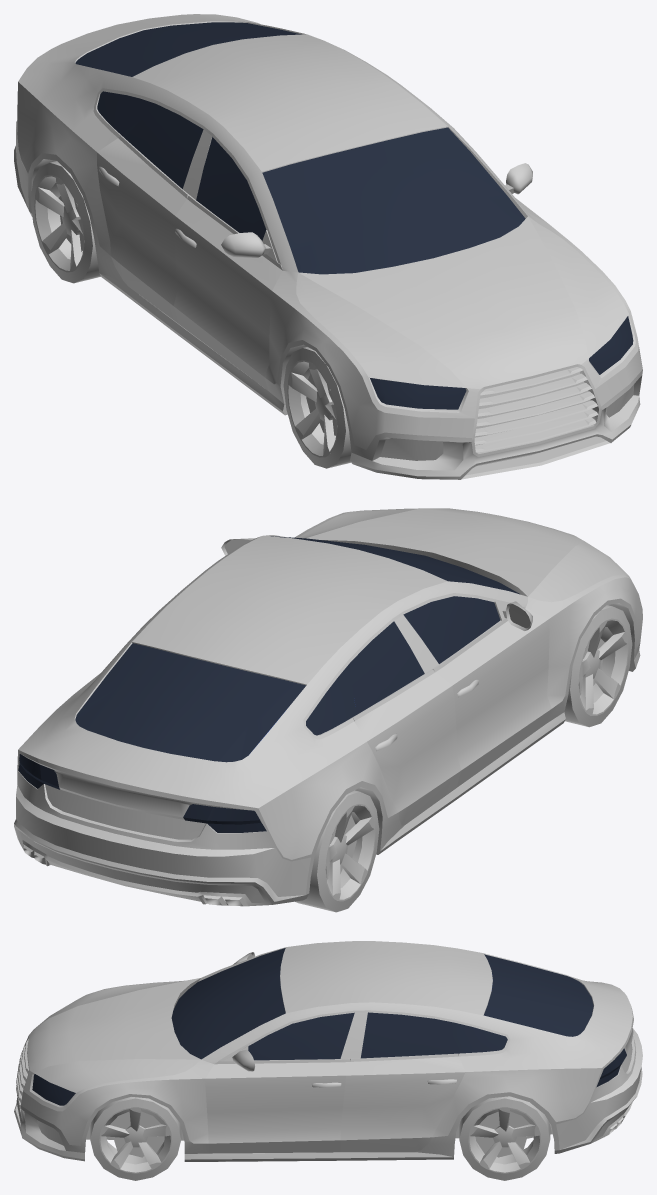
The model's file is RealisticCar02_HD_LOD3.FBX.
The picture shows the model from 3 angles, top to bottom: view 1: azimuth 30°, elevation 25°; view 2: azimuth 150°, elevation 25°; view 3: azimuth 270°, elevation 25°; orthographic projection. The views are drawn at different scales.
Parts seen in each view (by area): view 1: Car02_Body_LOD3, Car02_Glass_LOD3, Car02_Door_FrontRight_LOD3, Car02_Door_BackRight_LOD3, Car02_Wheel_BackRight_LOD3, Car02_Wheel_FrontRight_LOD3, Car02_Door_FrontLeft_LOD3; view 2: Car02_Body_LOD3, Car02_Glass_LOD3, Car02_Door_FrontRight_LOD3, Car02_Door_BackRight_LOD3, Car02_Wheel_BackRight_LOD3, Car02_Wheel_FrontRight_LOD3; view 3: Car02_Body_LOD3, Car02_Door_FrontLeft_LOD3, Car02_Glass_LOD3, Car02_Door_BackLeft_LOD3, Car02_Wheel_BackLeft_LOD3, Car02_Wheel_FrontLeft_LOD3, Car02_BrakeDisc_FrontLeft_LOD3, Car02_BrakeDisc_BackLeft_LOD3.
Part boxes in pixels (box(x1,y1,x2,y2)): Car02_Body_LOD3: box(14, 14, 642, 479); Car02_Glass_LOD3: box(75, 22, 633, 409); Car02_Door_FrontRight_LOD3: box(173, 137, 282, 390); Car02_Door_BackRight_LOD3: box(97, 103, 203, 323); Car02_Wheel_BackRight_LOD3: box(30, 161, 100, 283); Car02_Wheel_FrontRight_LOD3: box(283, 347, 351, 468); Car02_Door_FrontLeft_LOD3: box(495, 163, 546, 222); Car02_Body_LOD3: box(14, 508, 642, 906); Car02_Glass_LOD3: box(18, 536, 520, 832); Car02_Door_FrontRight_LOD3: box(403, 596, 551, 787); Car02_Door_BackRight_LOD3: box(348, 621, 461, 825); Car02_Wheel_BackRight_LOD3: box(295, 790, 379, 912); Car02_Wheel_FrontRight_LOD3: box(564, 605, 632, 727); Car02_Body_LOD3: box(14, 941, 642, 1161); Car02_Door_FrontLeft_LOD3: box(205, 1012, 354, 1153); Car02_Glass_LOD3: box(32, 948, 626, 1105); Car02_Door_BackLeft_LOD3: box(340, 1012, 465, 1152); Car02_Wheel_BackLeft_LOD3: box(459, 1096, 550, 1180); Car02_Wheel_FrontLeft_LOD3: box(90, 1097, 181, 1180); Car02_BrakeDisc_FrontLeft_LOD3: box(113, 1112, 151, 1157); Car02_BrakeDisc_BackLeft_LOD3: box(489, 1112, 527, 1157).
Size of the model in its own units: 2.09 by 1.43 by 5.03.
